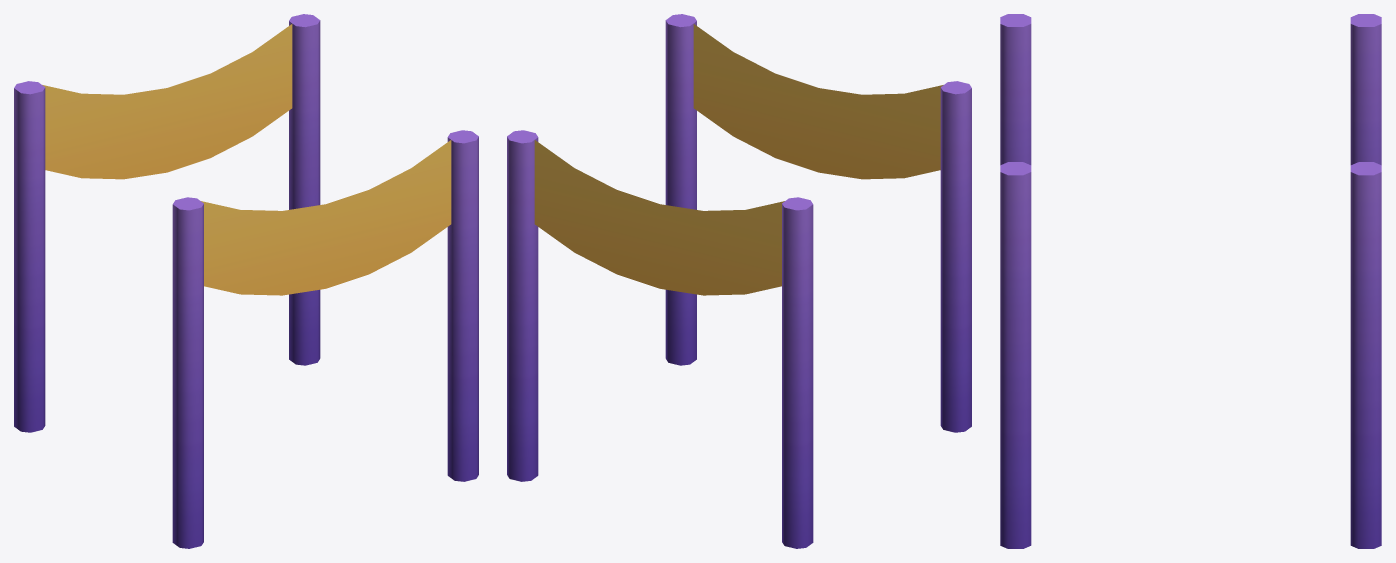
The model's file is kenney-marble-banner-hanging-double-high.glb.
3 renders of one model, left to right at view 1: azimuth 30°, elevation 25°; view 2: azimuth 150°, elevation 25°; view 3: azimuth 270°, elevation 25°, orthographic. The views are drawn at different scales.
Parts seen in each view (by area): view 1: banner-hanging-double-high; view 2: banner-hanging-double-high; view 3: banner-hanging-double-high.
Boxes of the visible parts, x1=… form: banner-hanging-double-high: x1=14, y1=14, x2=478, y2=548; banner-hanging-double-high: x1=507, y1=14, x2=971, y2=548; banner-hanging-double-high: x1=1000, y1=14, x2=1381, y2=548.
Bounding box in the file's own units: 0.925 × 1 × 0.925.
1 material, 1 textured.
